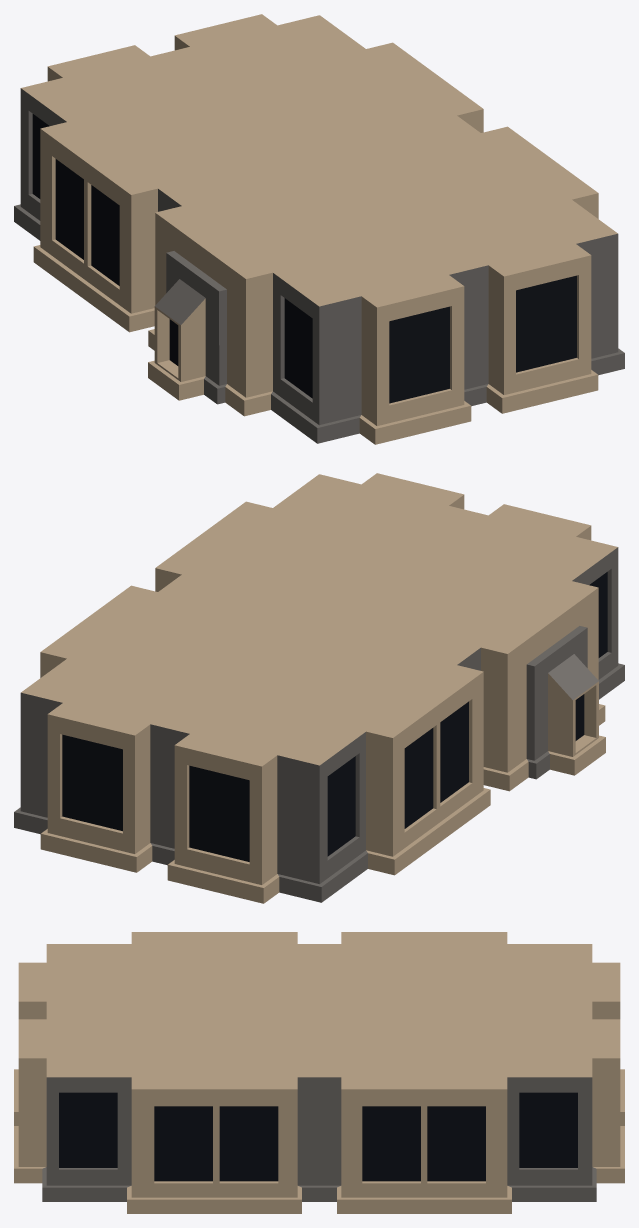
File: buildingA3.obj
3 views of the same model, one above another, from view 1: azimuth 30°, elevation 25°; view 2: azimuth 150°, elevation 25°; view 3: azimuth 270°, elevation 25° (orthographic). The views are drawn at different scales.
Visible parts, largest first — view 1: Cube.023_Cube.002; view 2: Cube.023_Cube.002; view 3: Cube.023_Cube.002.
Part boxes in pixels (x1,y1,x2,y2): Cube.023_Cube.002: (14,14,624,444); Cube.023_Cube.002: (14,473,624,903); Cube.023_Cube.002: (14,932,624,1213).
Bounding box in the file's own units: 9.99 × 3.26 × 14.68.
